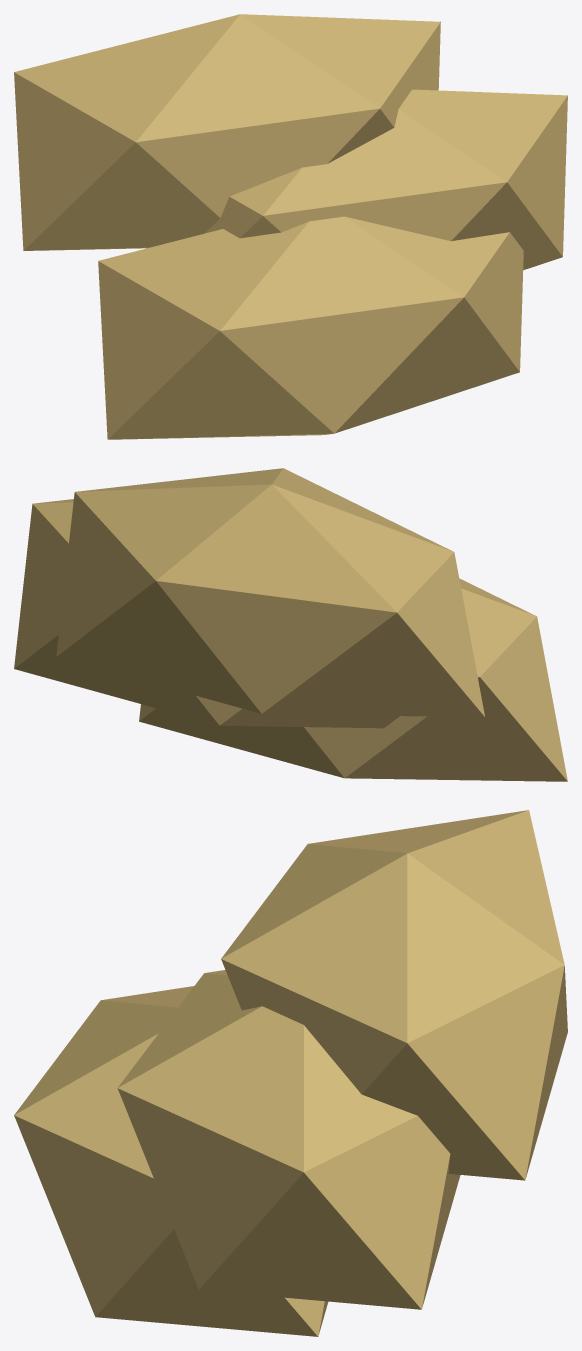
Rendered from item_087_bronze_dagger_m.glb.
3 views of the same model, one above another, from view 1: azimuth 30°, elevation 25°; view 2: azimuth 150°, elevation 25°; view 3: azimuth 270°, elevation 25° (orthographic). The views are drawn at different scales.
Visible parts, largest first — view 1: item_087_bronze_dagger_m; view 2: item_087_bronze_dagger_m; view 3: item_087_bronze_dagger_m.
Boxes of the visible parts, x1,y1,x2,y2 form: item_087_bronze_dagger_m: (14,14,567,439); item_087_bronze_dagger_m: (14,468,567,781); item_087_bronze_dagger_m: (14,810,567,1336).
Bounding box in the file's own units: 0.4136 × 0.2826 × 0.3211.
